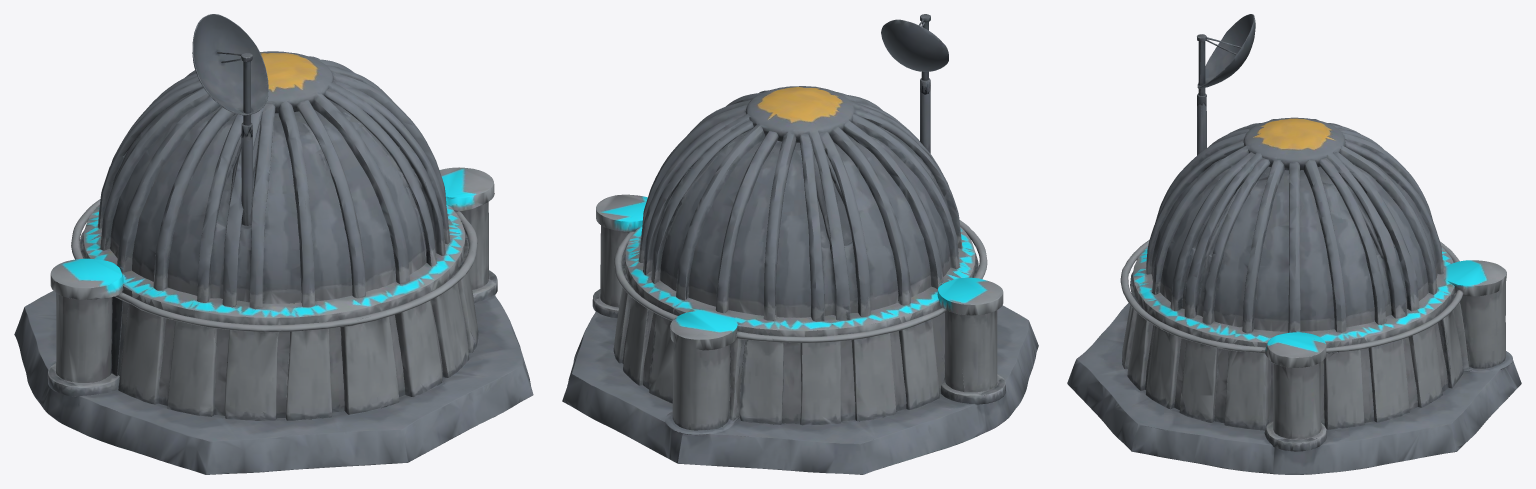
The model's file is town-lab-full.glb.
3 renders of one model, left to right at view 1: azimuth 30°, elevation 25°; view 2: azimuth 150°, elevation 25°; view 3: azimuth 270°, elevation 25°, orthographic. The views are drawn at different scales.
Parts seen in each view (by area): view 1: town-lab-full; view 2: town-lab-full; view 3: town-lab-full.
Boxes of the visible parts, x1,y1,x2,y2 form: town-lab-full: (14,14,533,474); town-lab-full: (562,14,1038,474); town-lab-full: (1067,14,1521,474).
Size of the model in its own units: 10.28 by 8.67 by 10.8.
Materials: 1 (1 with a texture image).
